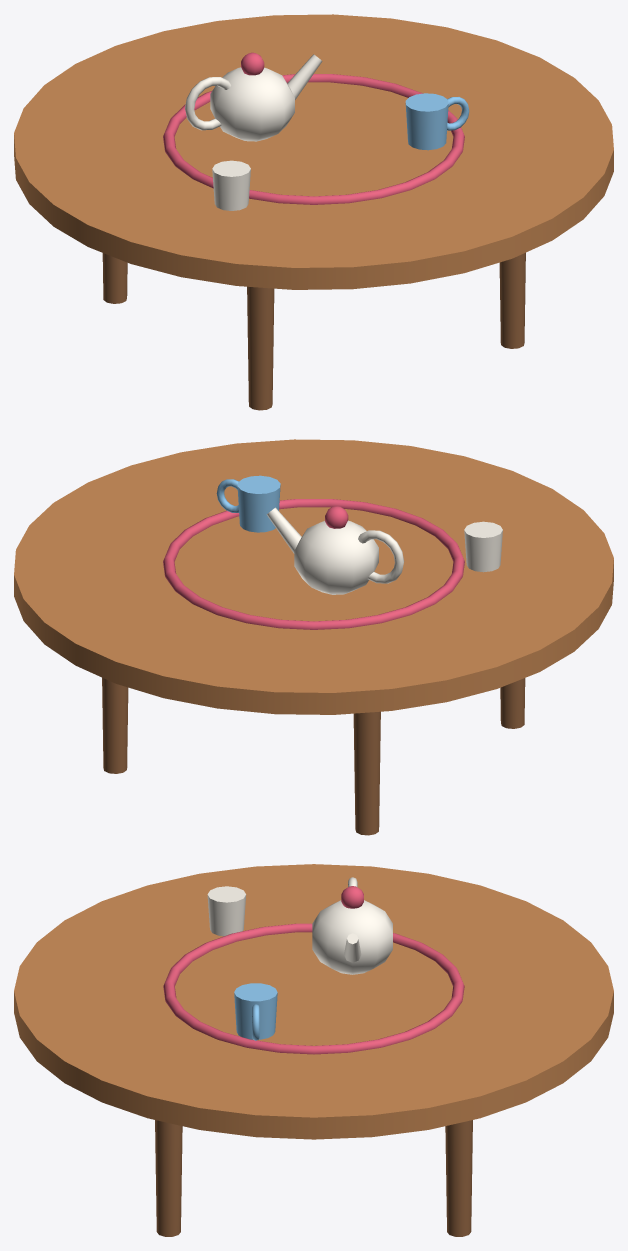
File: dining-low.glb
3 renders of one model, top to bottom at view 1: azimuth 30°, elevation 25°; view 2: azimuth 150°, elevation 25°; view 3: azimuth 270°, elevation 25°, orthographic.
Size of the model in its own units: 1.24 by 0.6 by 1.24.
